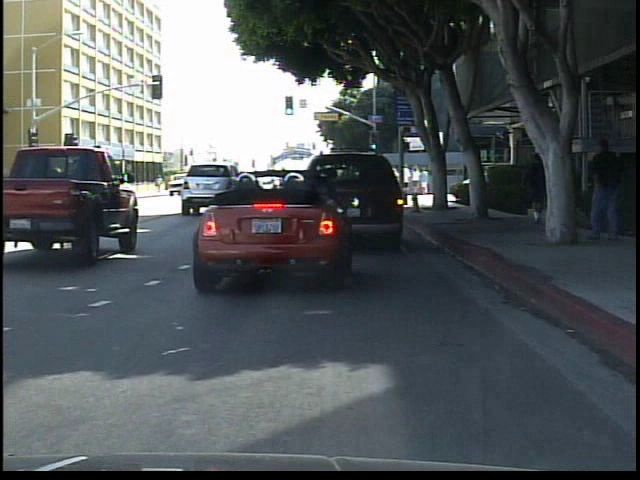person: (584, 135, 629, 242), (520, 149, 547, 230), (154, 172, 167, 195)
